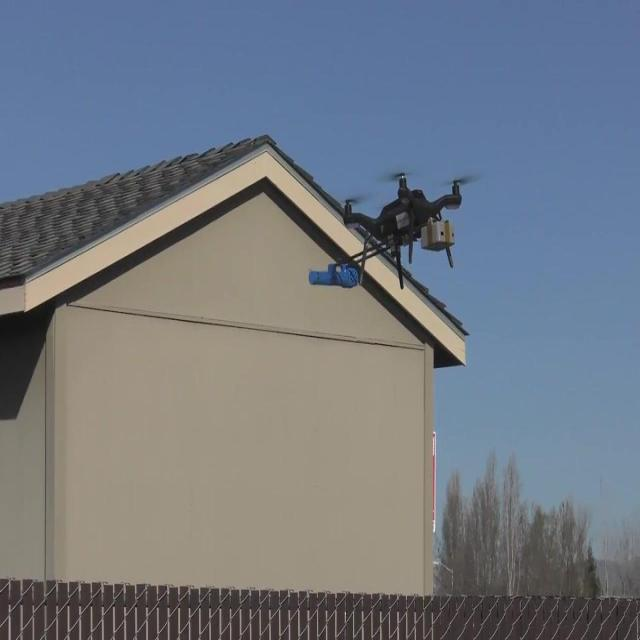drone: (342, 166, 486, 292)
